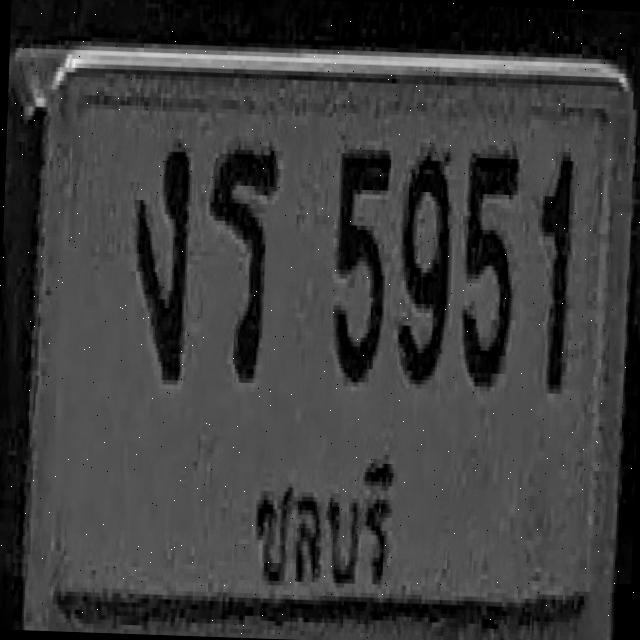1: (534, 149, 574, 391)
16NgorNgu: (129, 142, 190, 380)
44RorRuea: (204, 142, 278, 380)
5: (459, 148, 518, 388), (331, 144, 390, 383)
9: (396, 148, 452, 382)
Chonburi: (245, 428, 400, 608)
